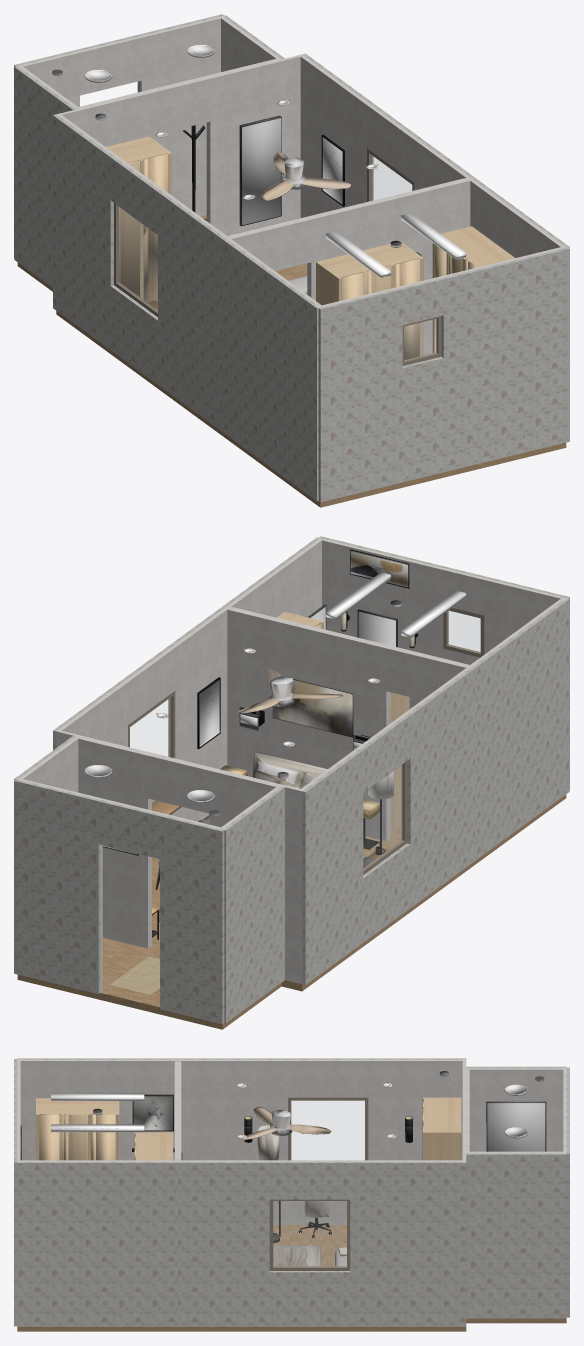
The model's file is scene_named.glb.
The picture shows the model from 3 angles, top to bottom: view 1: azimuth 30°, elevation 25°; view 2: azimuth 150°, elevation 25°; view 3: azimuth 270°, elevation 25°; orthographic projection. The views are drawn at different scales.
Visible parts, largest first — view 1: south_wall_exterior_walk_in_closet/south_wall_exterior_walk_, west_wall_exterior_bedroom/west_wall_exterior_bedroom/geomet, west_wall_exterior_walk_in_closet/west_wall_exterior_walk_in, north_wall_bedroom/north_wall_bedroom/geometry_0, north_wall_hallway/north_wall_hallway/geometry_0, east_wall_bedroom/east_wall_bedroom/geometry_0, north_wall_walk_in_closet/north_wall_walk_in_closet/geometry, west_wall_exterior_hallway/west_wall_exterior_hallway/geomet, mirror_0.002, east_wall_walk_in_closet/east_wall_walk_in_closet/geometry_0, window_2_bedroom/window_2_bedroom/glass, floor_walk_in_closet (+22 smaller); view 2: north_wall_exterior_hallway/north_wall_exterior_hallway/geom, west_wall_exterior_bedroom/west_wall_exterior_bedroom/geomet, south_wall_bedroom/south_wall_bedroom/geometry_0, west_wall_exterior_walk_in_closet/west_wall_exterior_walk_in, south_wall_hallway/south_wall_hallway/geometry_0, west_wall_exterior_hallway/west_wall_exterior_hallway/geomet, south_wall_walk_in_closet/south_wall_walk_in_closet/geometry, east_wall_bedroom/east_wall_bedroom/geometry_0, north_wall_bedroom/north_wall_bedroom/geometry_0, east_wall_walk_in_closet/east_wall_walk_in_closet/geometry_0, floor_hallway, window_2_bedroom/window_2_bedroom/glass (+22 smaller); view 3: east_wall_exterior_bedroom/east_wall_exterior_bedroom/geomet, east_wall_exterior_walk_in_closet/east_wall_exterior_walk_in, west_wall_bedroom/west_wall_bedroom/geometry_0, east_wall_exterior_hallway/east_wall_exterior_hallway/geomet, west_wall_walk_in_closet/west_wall_walk_in_closet/geometry_0, window_1_bedroom/window_1_bedroom/glass, west_wall_hallway/west_wall_hallway/geometry_0, window_2_bedroom/window_2_bedroom/glass, floor_bedroom, mirror_0, sketch_print_0, wardrobe_0/E_body_4.015 (+24 smaller).
Part boxes in pixels (<box>): south_wall_exterior_walk_in_closet/south_wall_exterior_walk_: <box>318,247,569,502</box>; west_wall_exterior_bedroom/west_wall_exterior_bedroom/geomet: <box>53,114,225,431</box>; west_wall_exterior_walk_in_closet/west_wall_exterior_walk_in: <box>222,238,318,501</box>; north_wall_bedroom/north_wall_bedroom/geometry_0: <box>60,55,300,235</box>; north_wall_hallway/north_wall_hallway/geometry_0: <box>16,15,225,216</box>; east_wall_bedroom/east_wall_bedroom/geometry_0: <box>299,54,471,217</box>; north_wall_walk_in_closet/north_wall_walk_in_closet/geometry: <box>229,179,470,355</box>; west_wall_exterior_hallway/west_wall_exterior_hallway/geomet: <box>14,66,76,287</box>; mirror_0.002: <box>239,115,281,226</box>; east_wall_walk_in_closet/east_wall_walk_in_closet/geometry_0: <box>468,178,563,257</box>; window_2_bedroom/window_2_bedroom/glass: <box>118,206,157,311</box>; floor_walk_in_closet: <box>226,435,566,507</box>; north_wall_exterior_hallway/north_wall_exterior_hallway/geom: <box>14,779,224,1024</box>; west_wall_exterior_bedroom/west_wall_exterior_bedroom/geomet: <box>302,667,474,984</box>; south_wall_bedroom/south_wall_bedroom/geometry_0: <box>227,608,467,841</box>; west_wall_exterior_walk_in_closet/west_wall_exterior_walk_in: <box>472,598,569,860</box>; south_wall_hallway/south_wall_hallway/geometry_0: <box>75,736,281,948</box>; west_wall_exterior_hallway/west_wall_exterior_hallway/geomet: <box>224,786,284,1023</box>; south_wall_walk_in_closet/south_wall_walk_in_closet/geometry: <box>317,537,567,708</box>; east_wall_bedroom/east_wall_bedroom/geometry_0: <box>56,607,228,821</box>; north_wall_bedroom/north_wall_bedroom/geometry_0: <box>57,731,302,984</box>; east_wall_walk_in_closet/east_wall_walk_in_closet/geometry_0: <box>226,539,321,617</box>; floor_hallway: <box>17,937,281,1029</box>; window_2_bedroom/window_2_bedroom/glass: <box>363,765,402,868</box>; east_wall_exterior_bedroom/east_wall_exterior_bedroom/geomet: <box>178,1161,466,1326</box>; east_wall_exterior_walk_in_closet/east_wall_exterior_walk_in: <box>17,1161,177,1326</box>; west_wall_bedroom/west_wall_bedroom/geometry_0: <box>178,1059,466,1224</box>; east_wall_exterior_hallway/east_wall_exterior_hallway/geomet: <box>466,1153,566,1318</box>; west_wall_walk_in_closet/west_wall_walk_in_closet/geometry_0: <box>20,1059,177,1160</box>; window_1_bedroom/window_1_bedroom/glass: <box>273,1201,346,1266</box>; west_wall_hallway/west_wall_hallway/geometry_0: <box>469,1068,563,1151</box>; window_2_bedroom/window_2_bedroom/glass: <box>291,1101,364,1159</box>; floor_bedroom: <box>178,1225,466,1331</box>; mirror_0: <box>486,1101,546,1151</box>; sketch_print_0: <box>132,1094,173,1131</box>; wardrobe_0/E_body_4.015: <box>424,1098,461,1132</box>.
Size of the model in its own units: 3.7 by 2.8 by 8.3.
79 materials, 64 textured.
